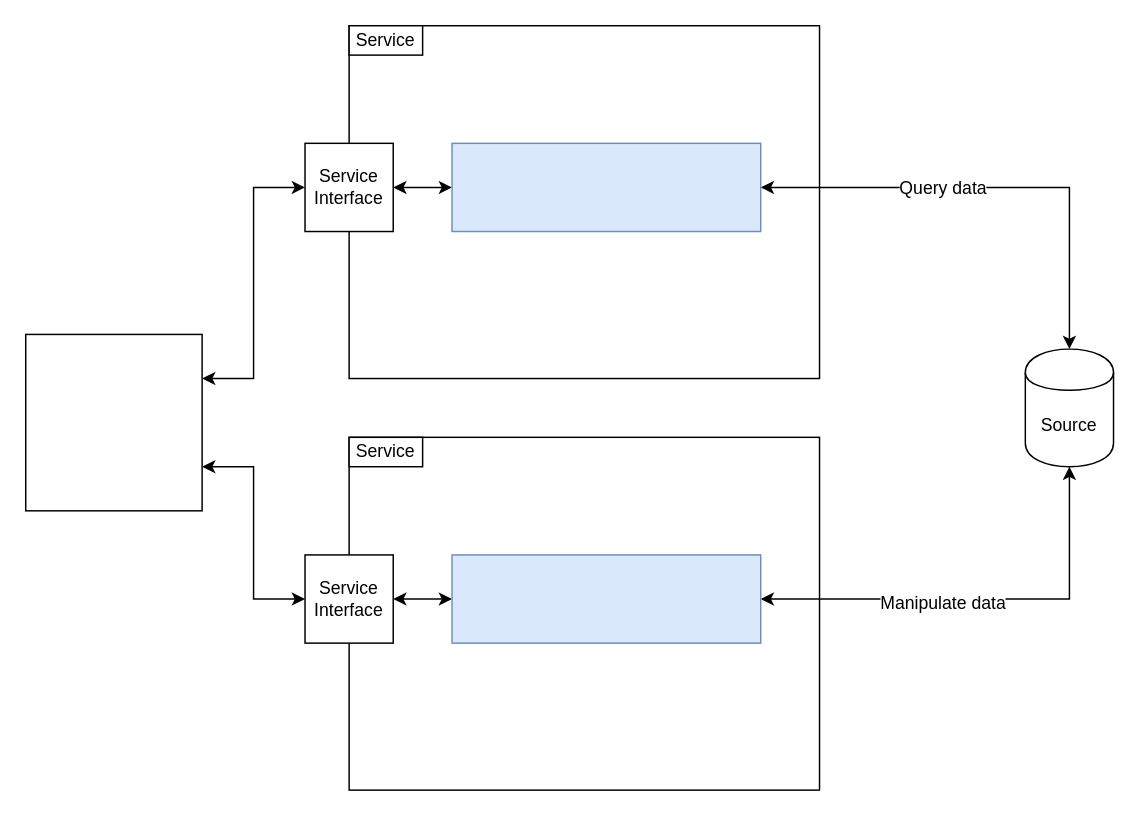
Some shapes in this 1139 by 816 pixel diagram are drawn without their labels. The centre of each missing label's shape, as x and y in pixels:
"Client" belongs at point (113, 422).
"Command Model" belongs at point (606, 598).
"Query Model" belongs at point (606, 187).
